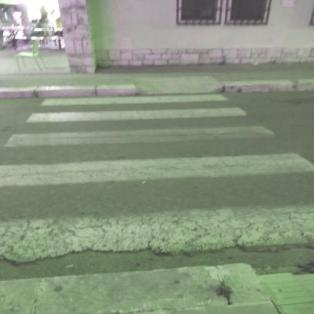Paso de Cebra: (2, 106, 283, 152)
